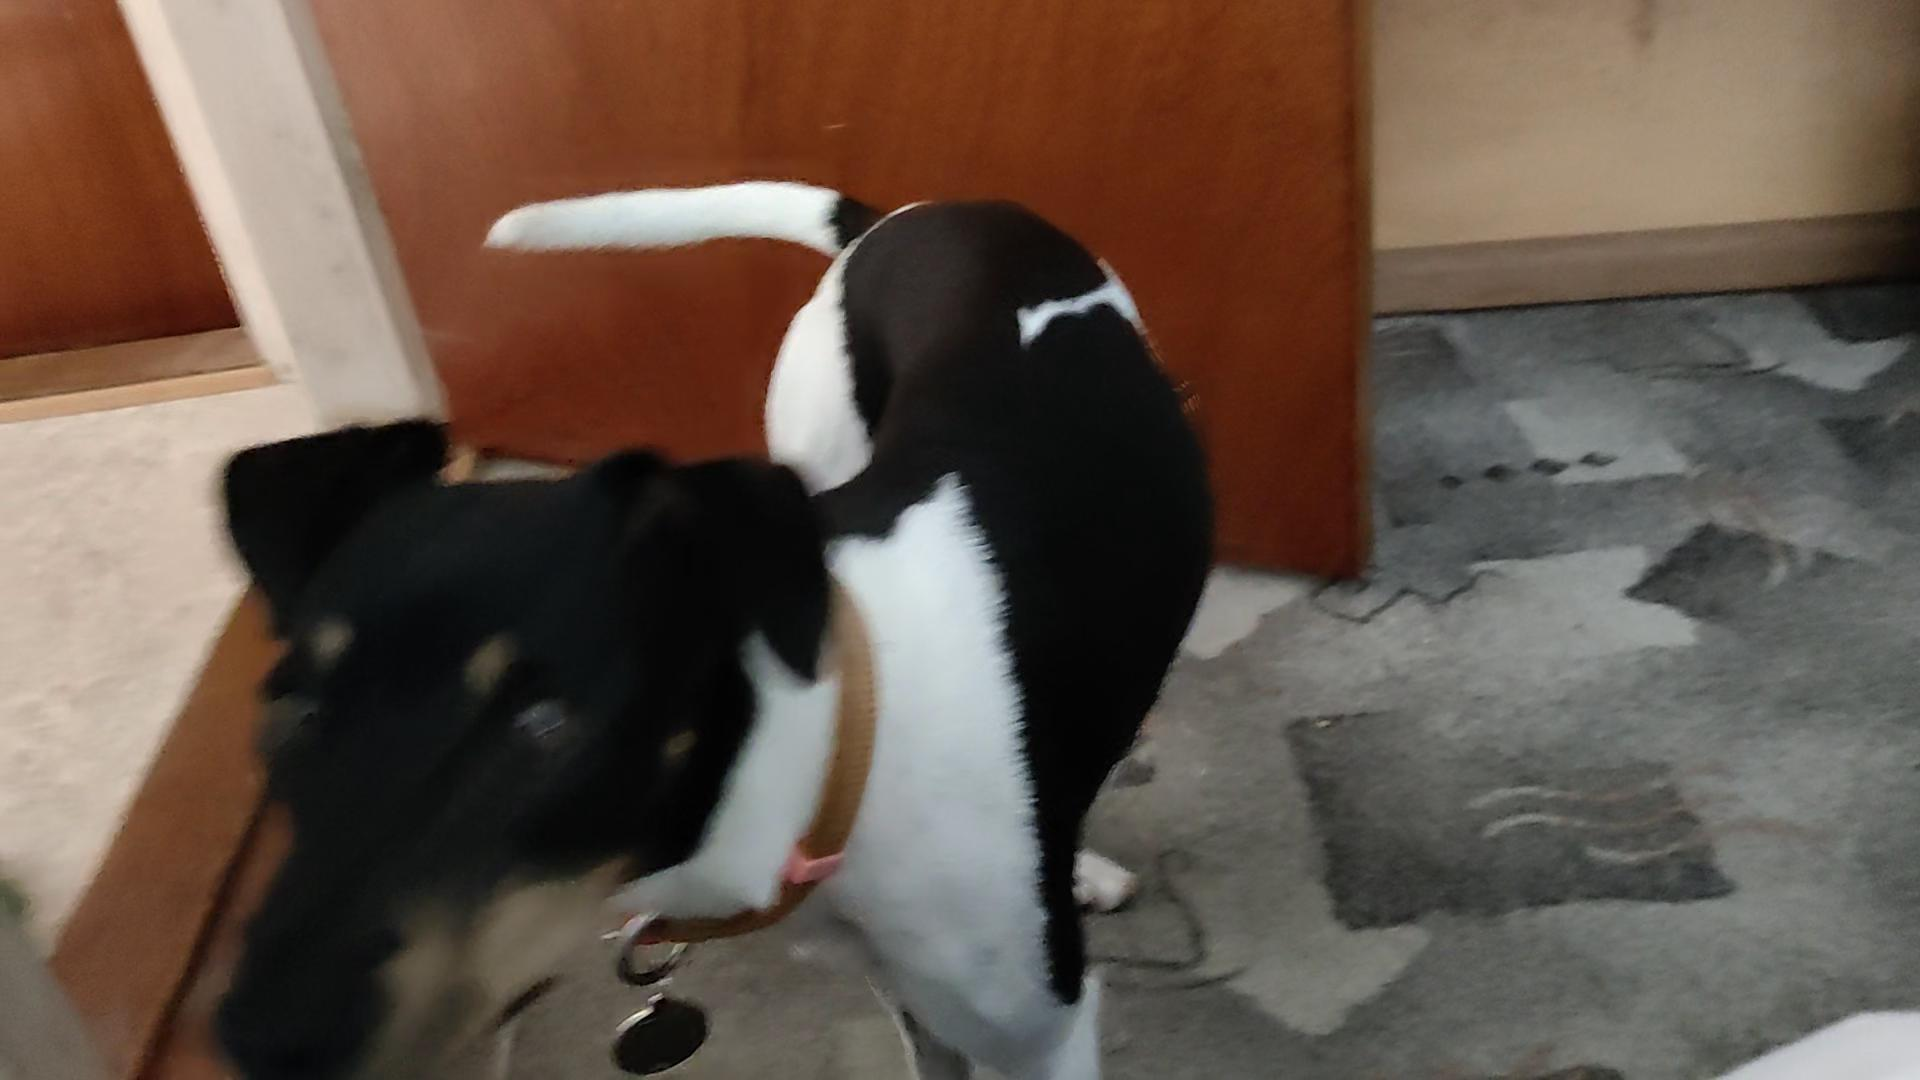Dog: (189, 169, 1224, 1079)
